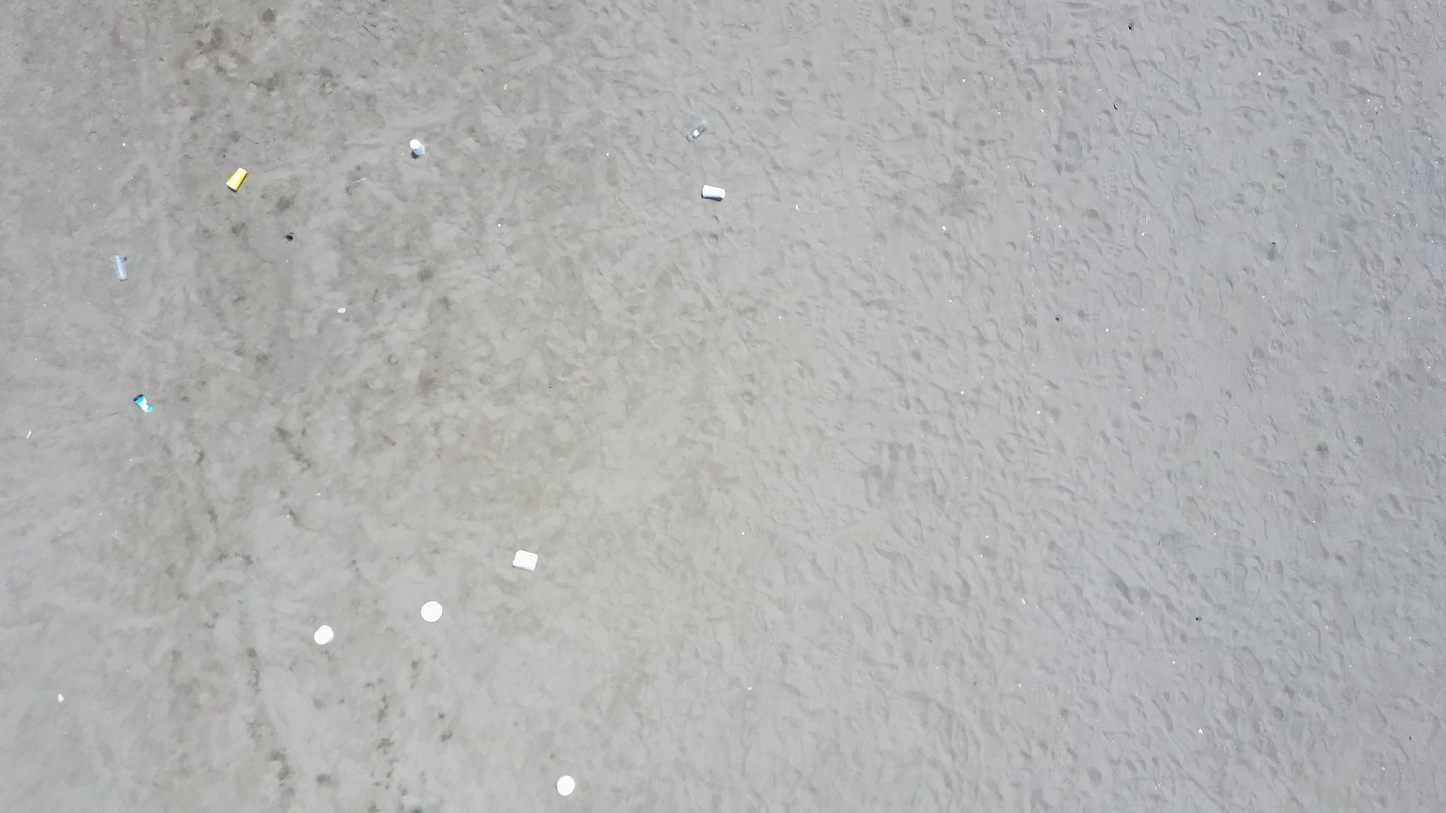Garbage: (512, 550, 537, 571), (227, 168, 247, 191), (688, 119, 709, 140), (421, 601, 441, 622), (700, 183, 724, 200), (556, 775, 575, 795), (313, 625, 333, 644), (133, 394, 153, 411), (113, 255, 126, 280), (410, 139, 425, 157), (285, 231, 293, 241), (336, 306, 346, 313), (25, 430, 31, 440), (56, 694, 63, 702)
